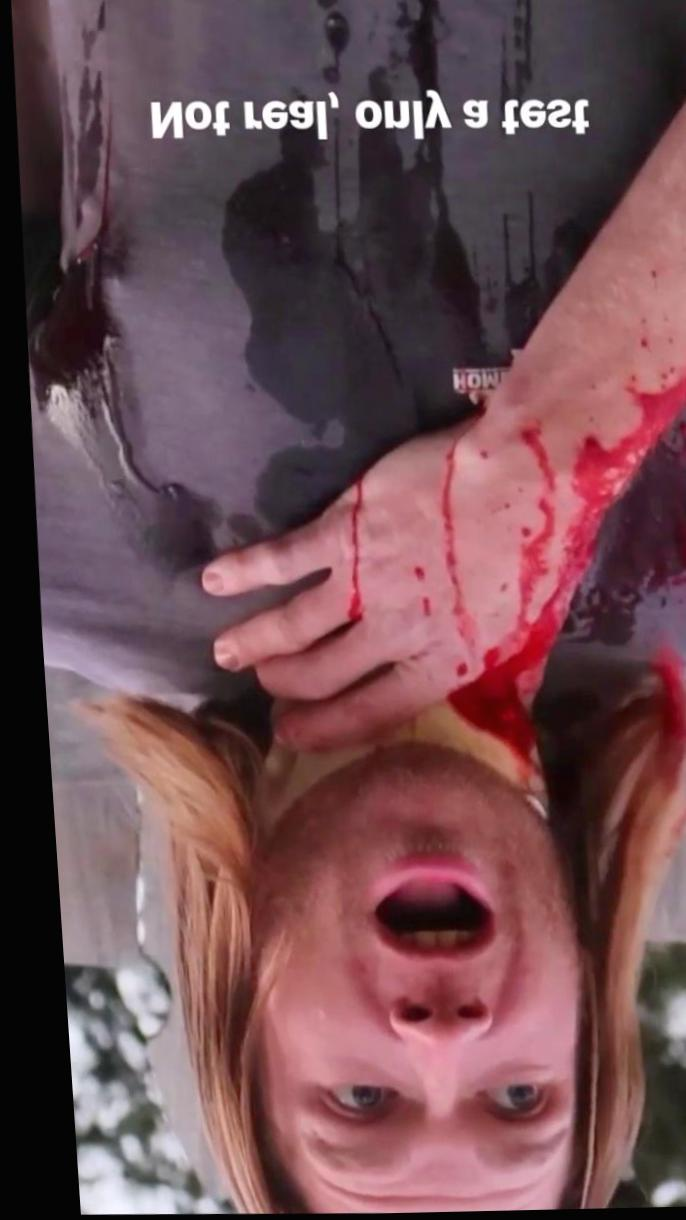Fire: (383, 362, 686, 761), (338, 474, 357, 623)
